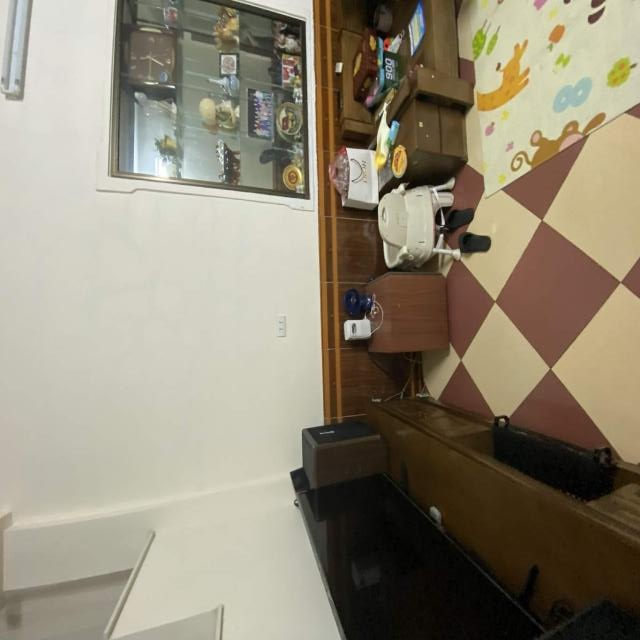outlet: (276, 315, 286, 338)
